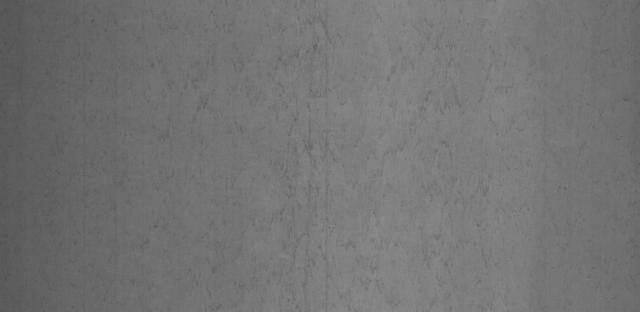silk_spot: (400, 20, 638, 298), (222, 18, 396, 291)
